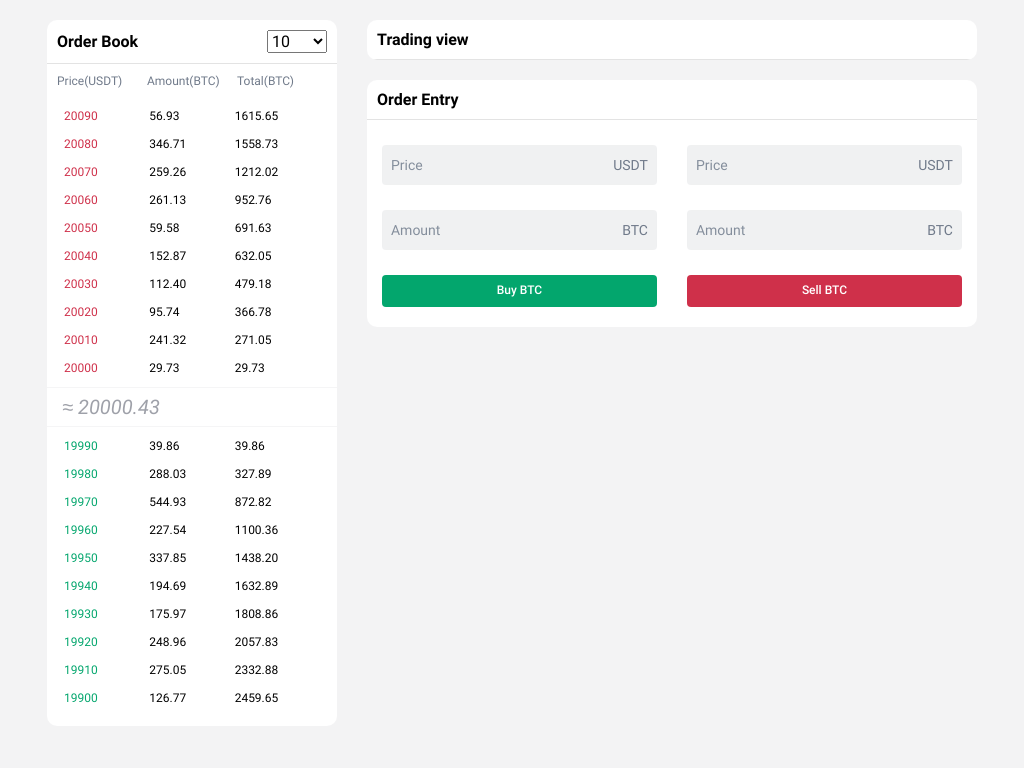
Test case: test order entry › should show input validation errors
Click the button with test id "buy-order-submit" at (520, 291), box top-left (382, 275), bottom-right (657, 307)
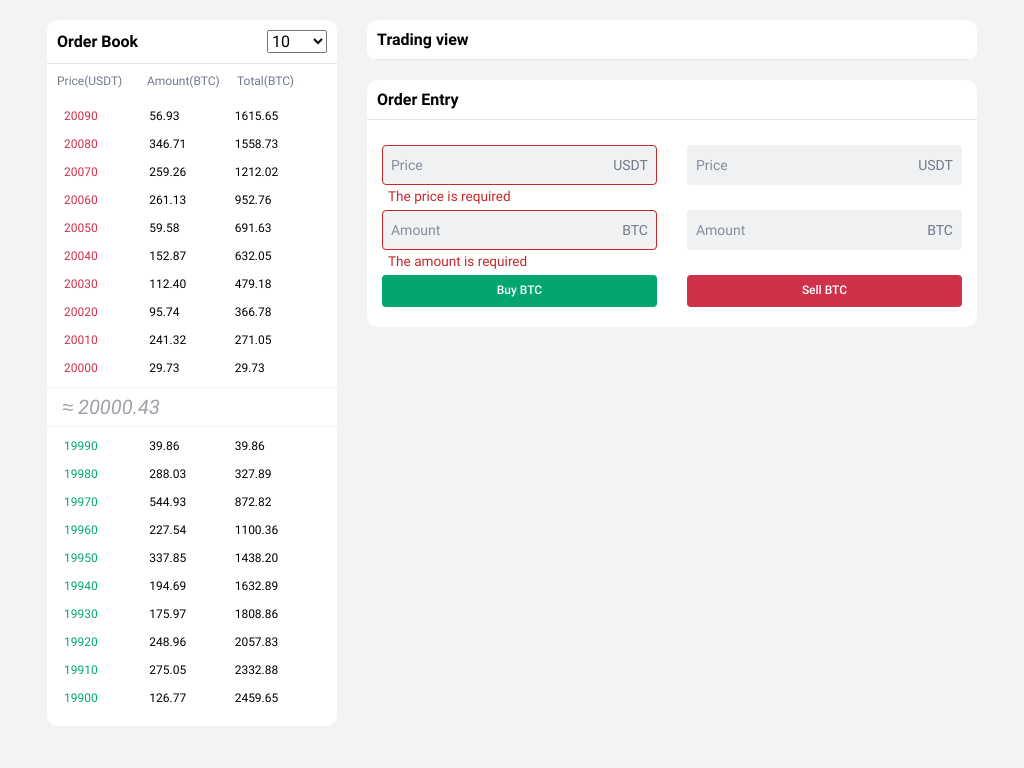
Click the button with test id "sell-order-submit" at (825, 291), box top-left (687, 275), bottom-right (962, 307)
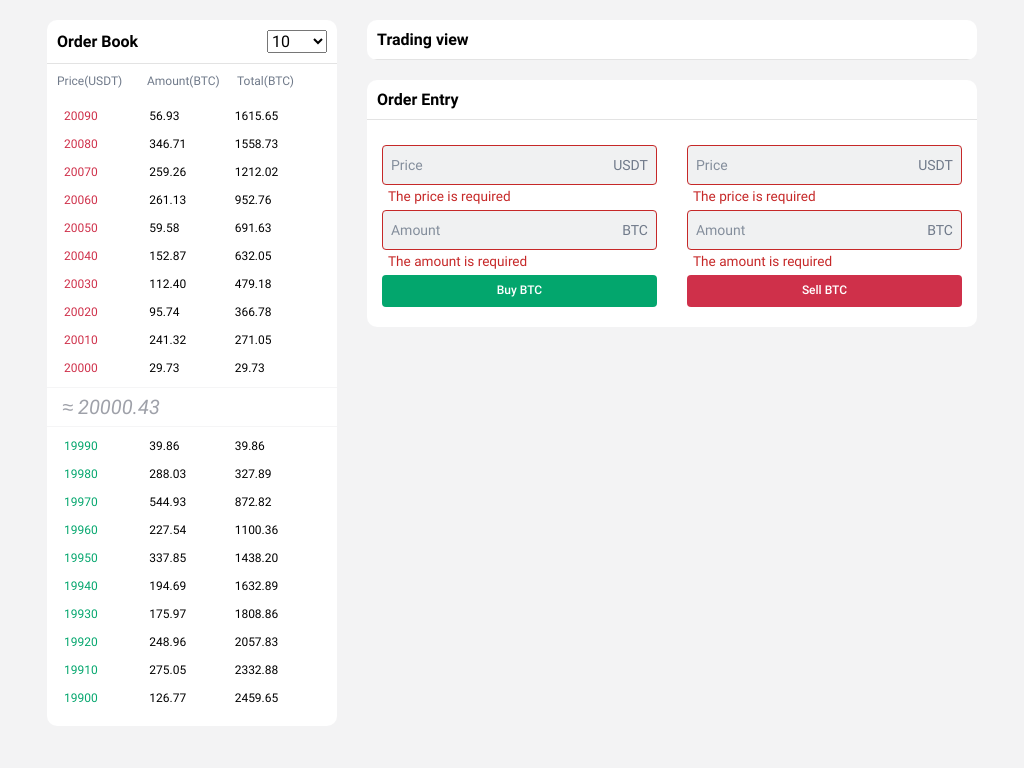
Result: the 1st text with class "th-input__message" reads "The price is required" at top-left (382, 188), bottom-right (517, 204)
Result: the 1st text with class "th-input__message" reads "The amount is required" at top-left (382, 253), bottom-right (533, 269)
Result: the 2nd text with class "th-input__message" reads "The price is required" at top-left (687, 188), bottom-right (822, 204)
